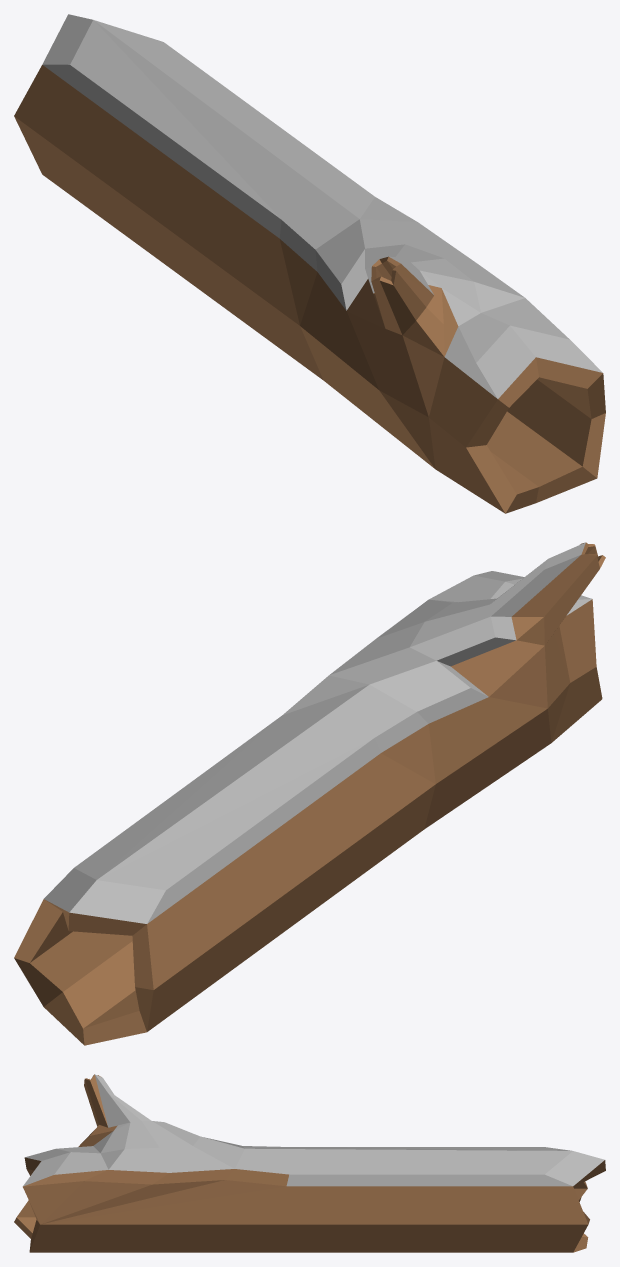
Rendered from Branch_5 Winter.fbx.
3 renders of one model, top to bottom at view 1: azimuth 30°, elevation 25°; view 2: azimuth 150°, elevation 25°; view 3: azimuth 270°, elevation 25°, orthographic. The views are drawn at different scales.
Visible parts, largest first — view 1: Branch4Winter_mesh; view 2: Branch4Winter_mesh; view 3: Branch4Winter_mesh.
Boxes of the visible parts, x1=… form: Branch4Winter_mesh: x1=14, y1=14, x2=605, y2=513; Branch4Winter_mesh: x1=14, y1=542, x2=605, y2=1045; Branch4Winter_mesh: x1=14, y1=1074, x2=605, y2=1252.
Bounding box in the file's own units: 67.17 × 81.35 × 303.
